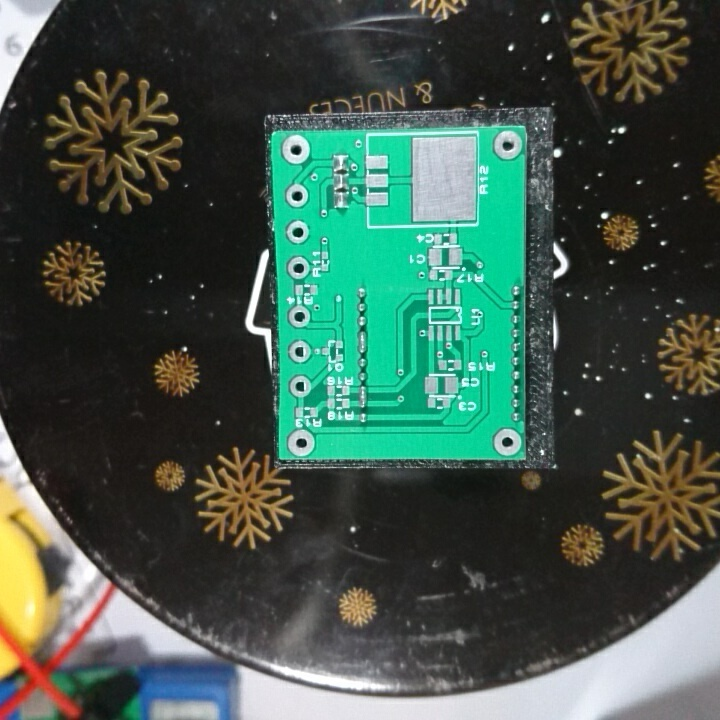F: (490, 128, 527, 163), (279, 132, 314, 169), (490, 426, 526, 460), (286, 427, 317, 458), (284, 251, 315, 281), (282, 179, 311, 211), (285, 302, 314, 334), (283, 216, 311, 249), (286, 337, 314, 366), (288, 374, 314, 402)
P: (355, 326, 374, 358), (356, 382, 375, 411)
